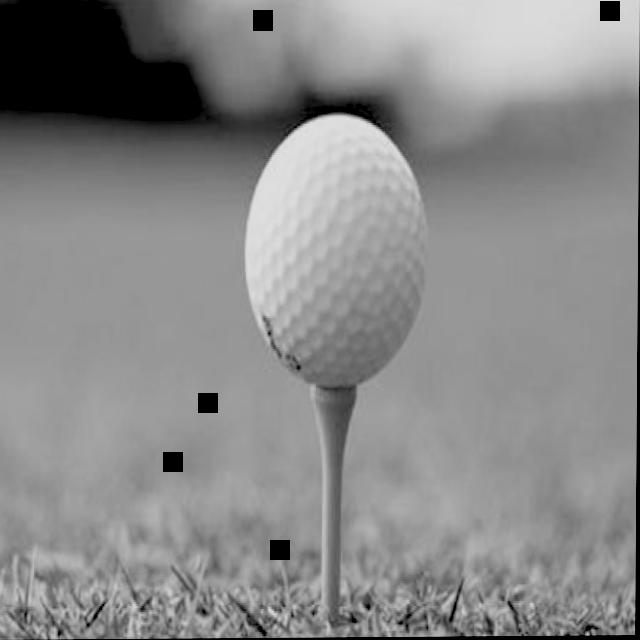golf ball: (236, 96, 445, 395)
